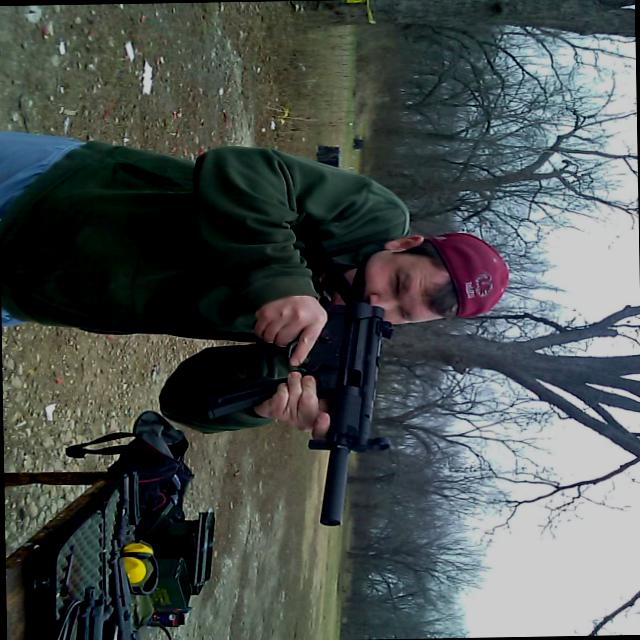handgun: (268, 301, 398, 525)
